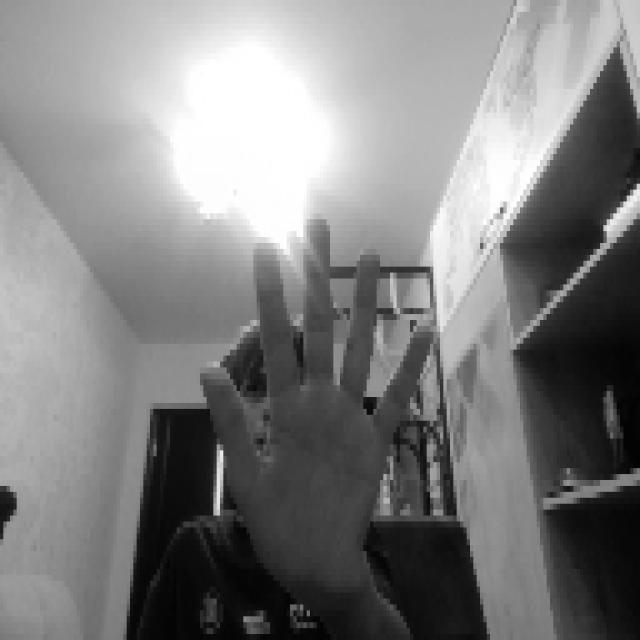hand: (193, 208, 430, 592)
